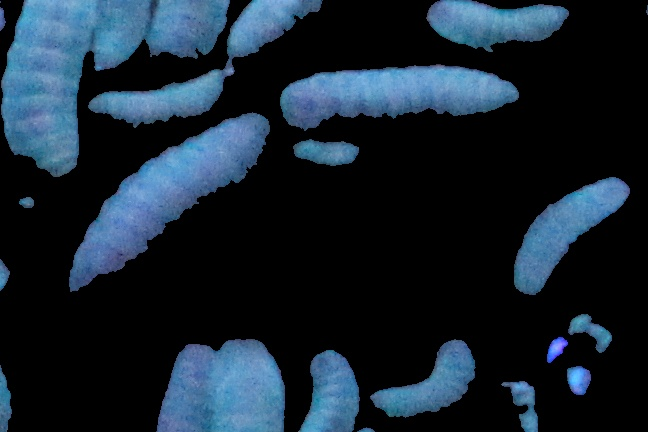larvae: (70, 111, 271, 291), (1, 1, 93, 181), (281, 67, 522, 126), (513, 177, 629, 294), (370, 339, 477, 416), (90, 69, 232, 127), (427, 1, 570, 51), (218, 339, 286, 432), (225, 1, 324, 61), (156, 344, 219, 432), (152, 1, 229, 64), (306, 347, 359, 432), (95, 1, 152, 68), (292, 140, 360, 169)
